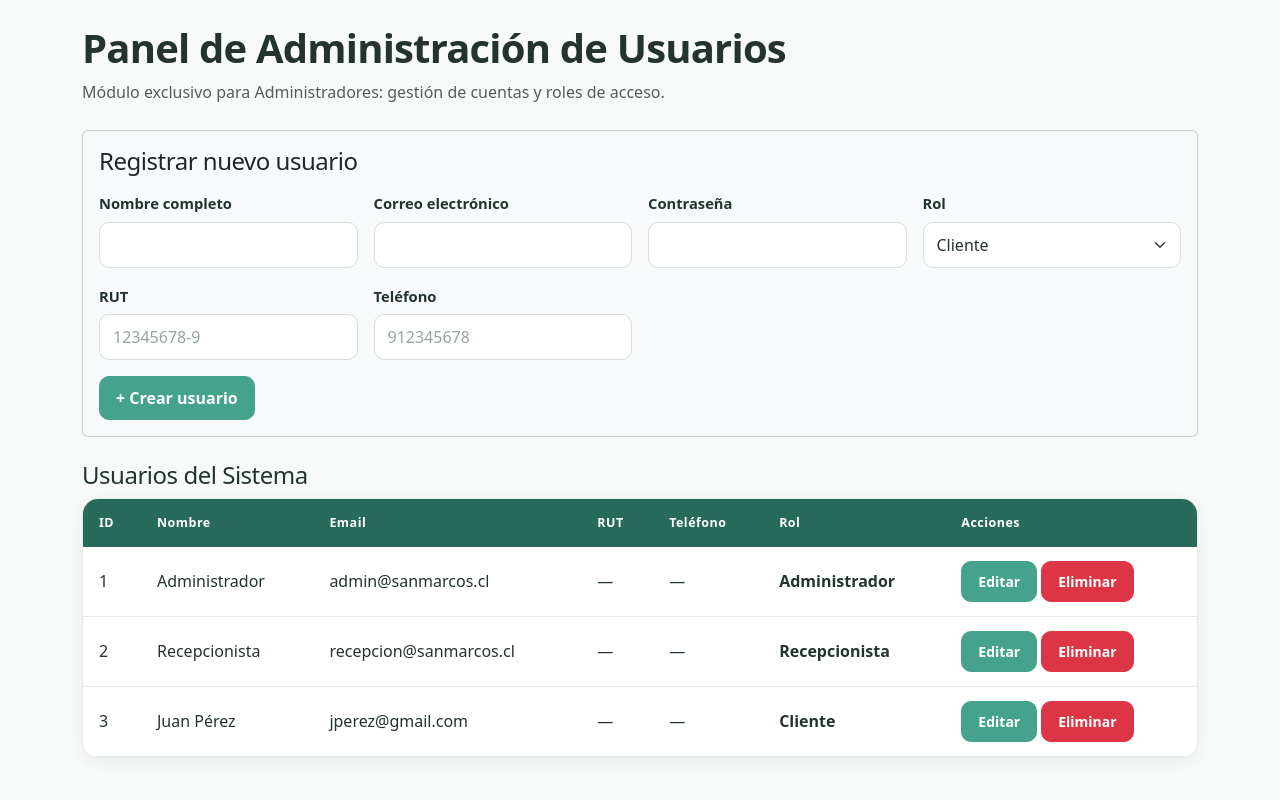
Test case: UsuariosPage › rechaza una contraseña de menos de 4 caracteres
Check: the text "Juan Pérez" is shown, box x1=141 y1=687 x2=313 y2=757
Type "Laura Soto" into the field labelled "Nombre completo" at (228, 245), box x1=99 y1=222 x2=358 y2=268
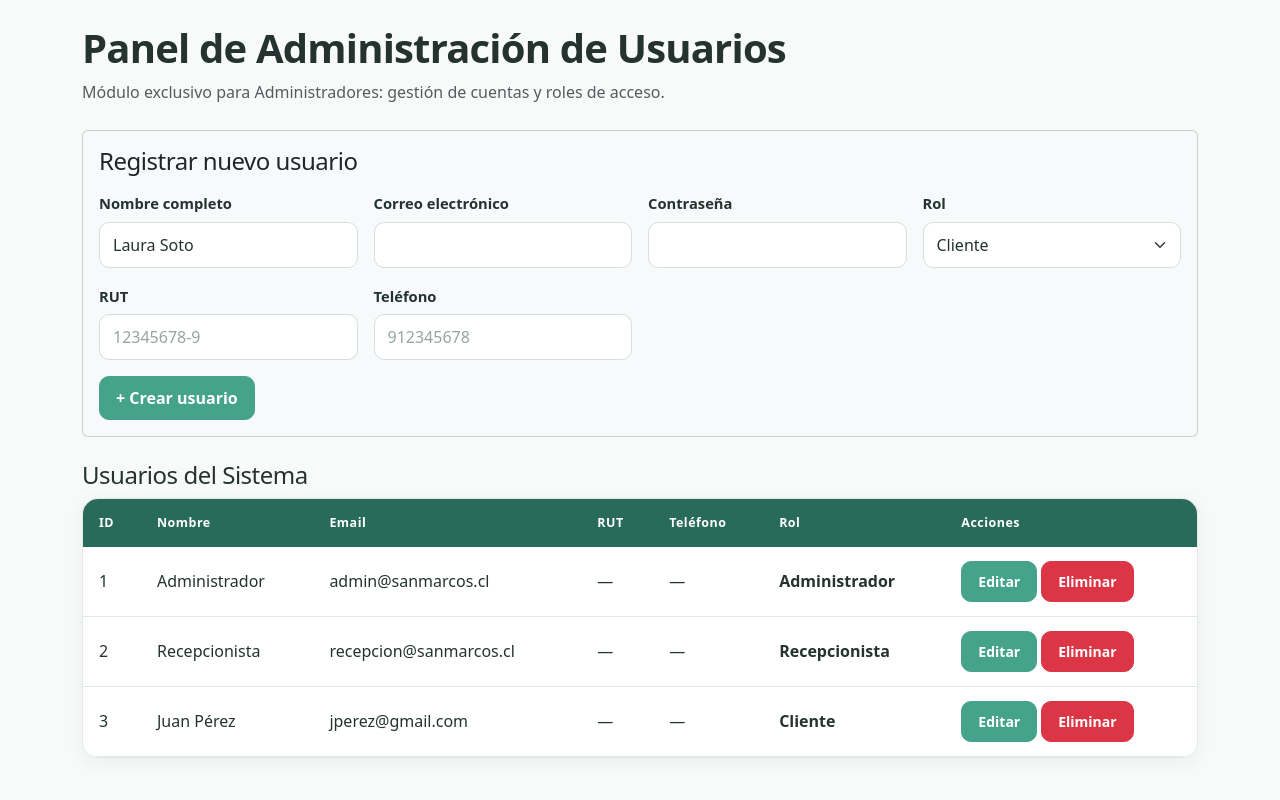
Type "laura@sanmarcos.cl" into the field labelled "Correo electrónico" at (503, 245), box x1=374 y1=222 x2=632 y2=268
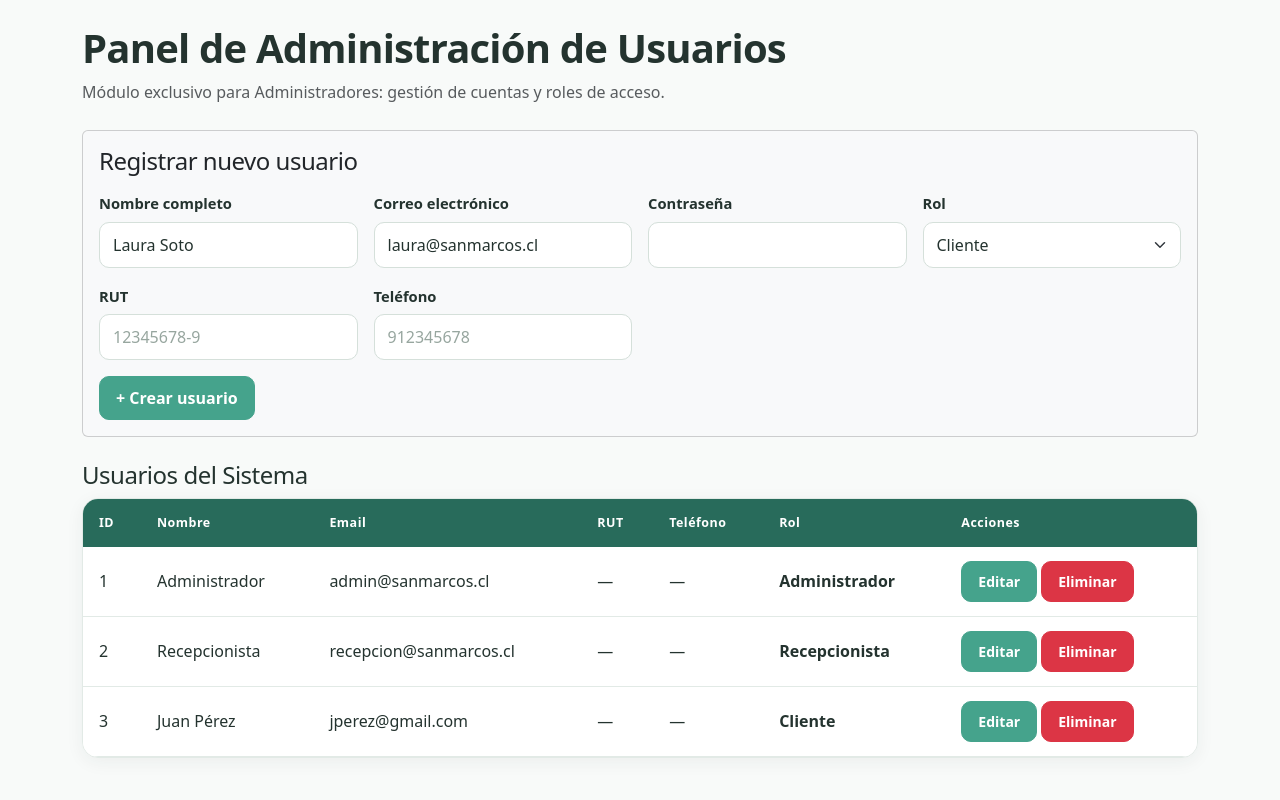
Type "abc" into the password field labelled "Contraseña" at (777, 245), box x1=648 y1=222 x2=906 y2=268
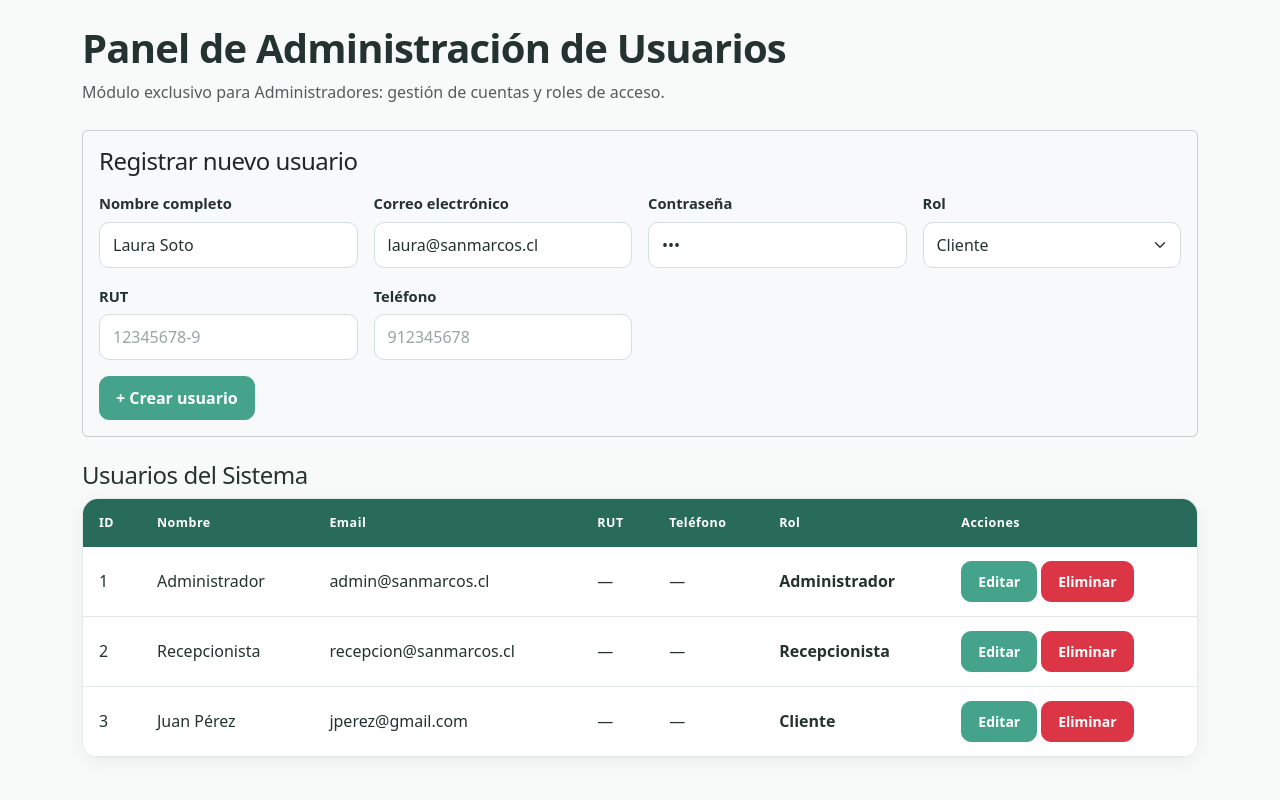
Click the button "+ Crear usuario" at (177, 398), box x1=99 y1=376 x2=255 y2=420
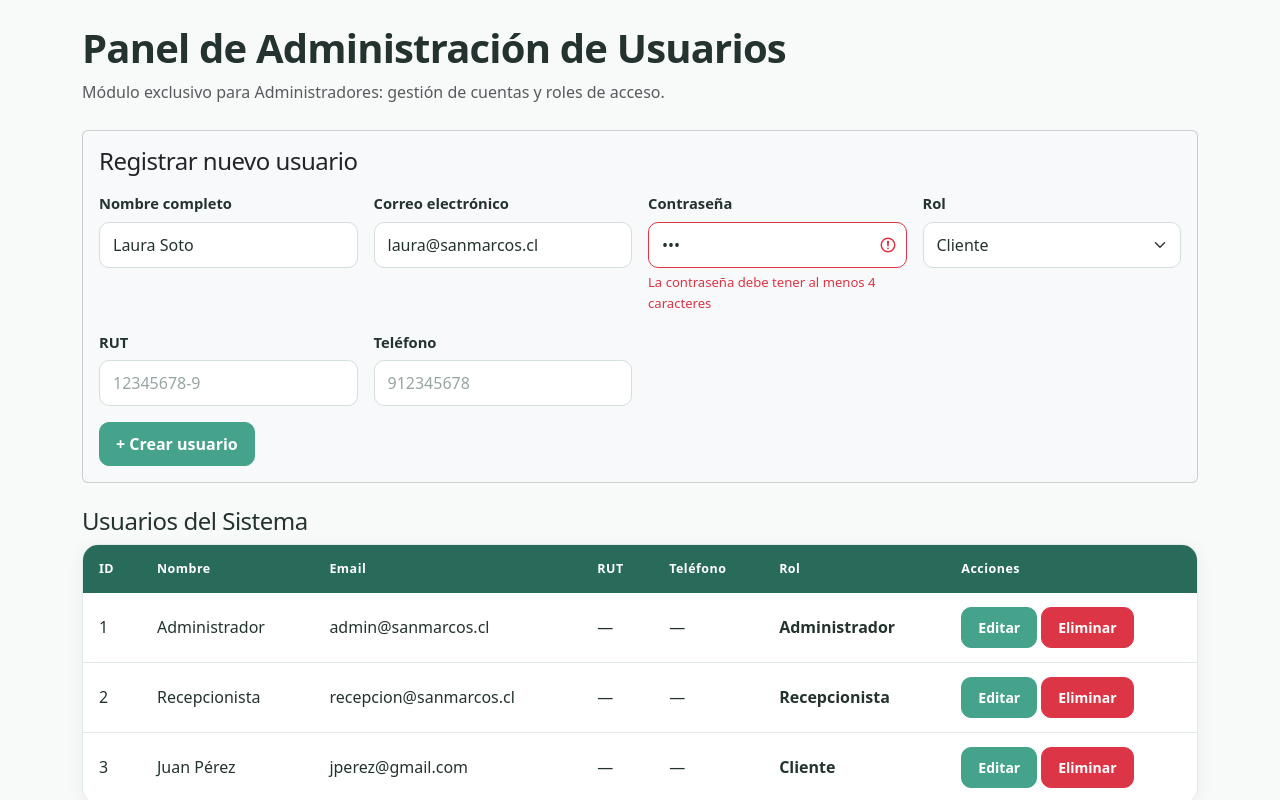
Check: the text "La contraseña debe tener al menos 4 caracteres" is shown, box x1=648 y1=272 x2=906 y2=314
